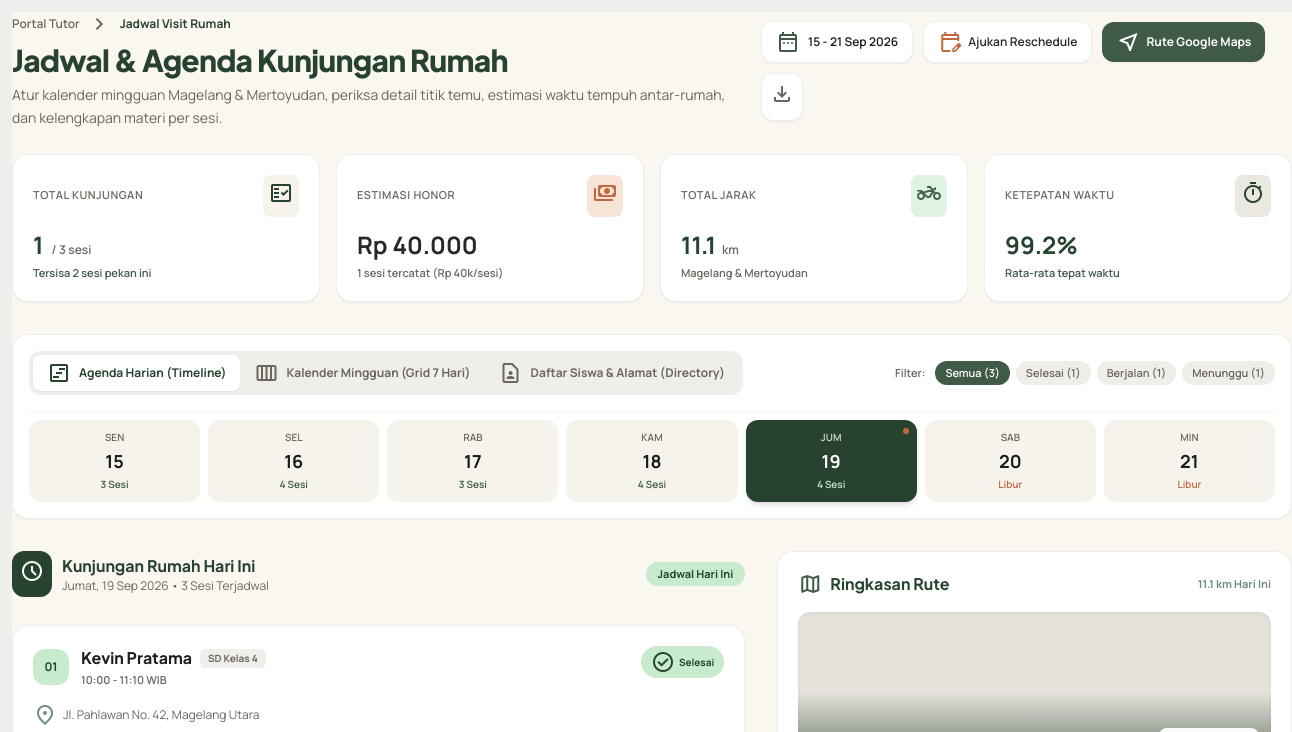
Scenario: TutorVisitSchedule Component (SQA-ISTQB & TDD) › TC-TVS-004: switches between Timeline, Weekly Calendar Grid, and Student Directory tabs
Switch to Weekly Grid
Click the button "Kalender Mingguan (Grid 7 Hari)".
click(363, 373)  # box [240,355,485,391]
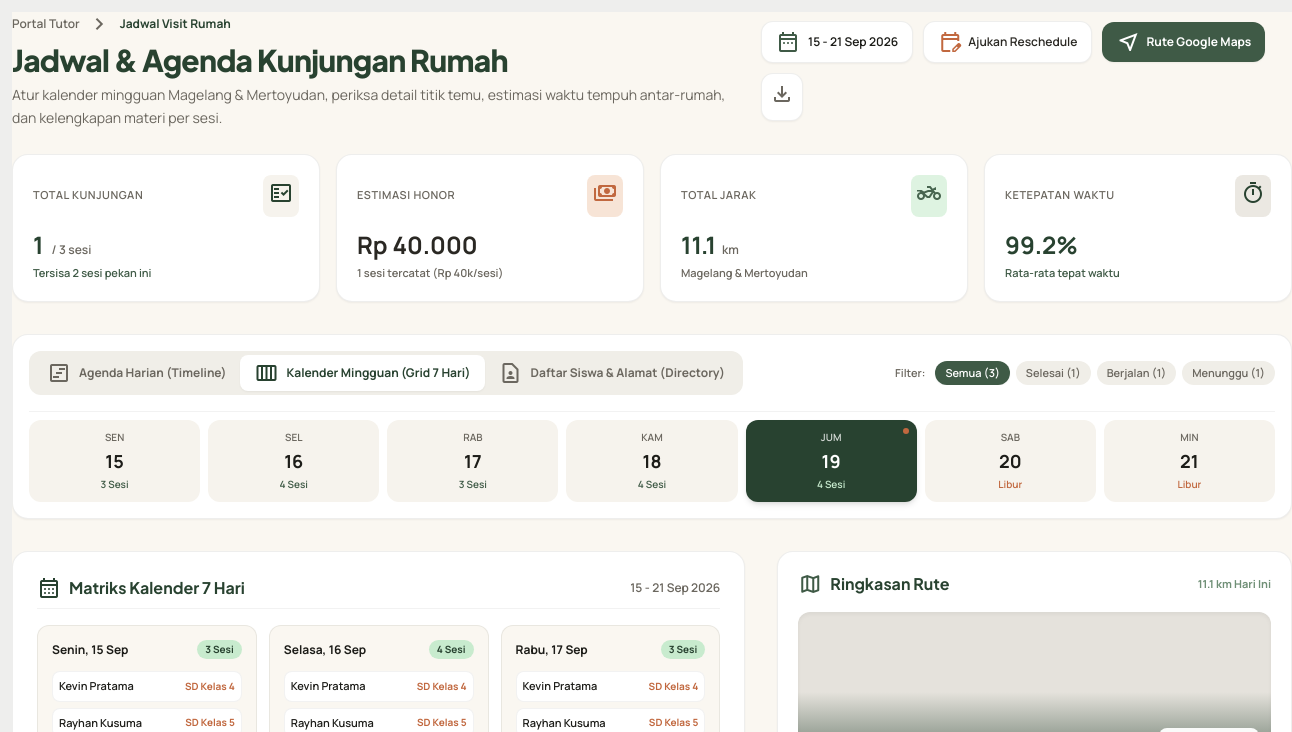
Expected: the heading "Matriks Kalender 7 Hari" is shown, [69,576,245,600]
Switch to Directory
Click the button "Daftar Siswa & Alamat (Directory)".
click(612, 373)  # box [485,355,739,391]
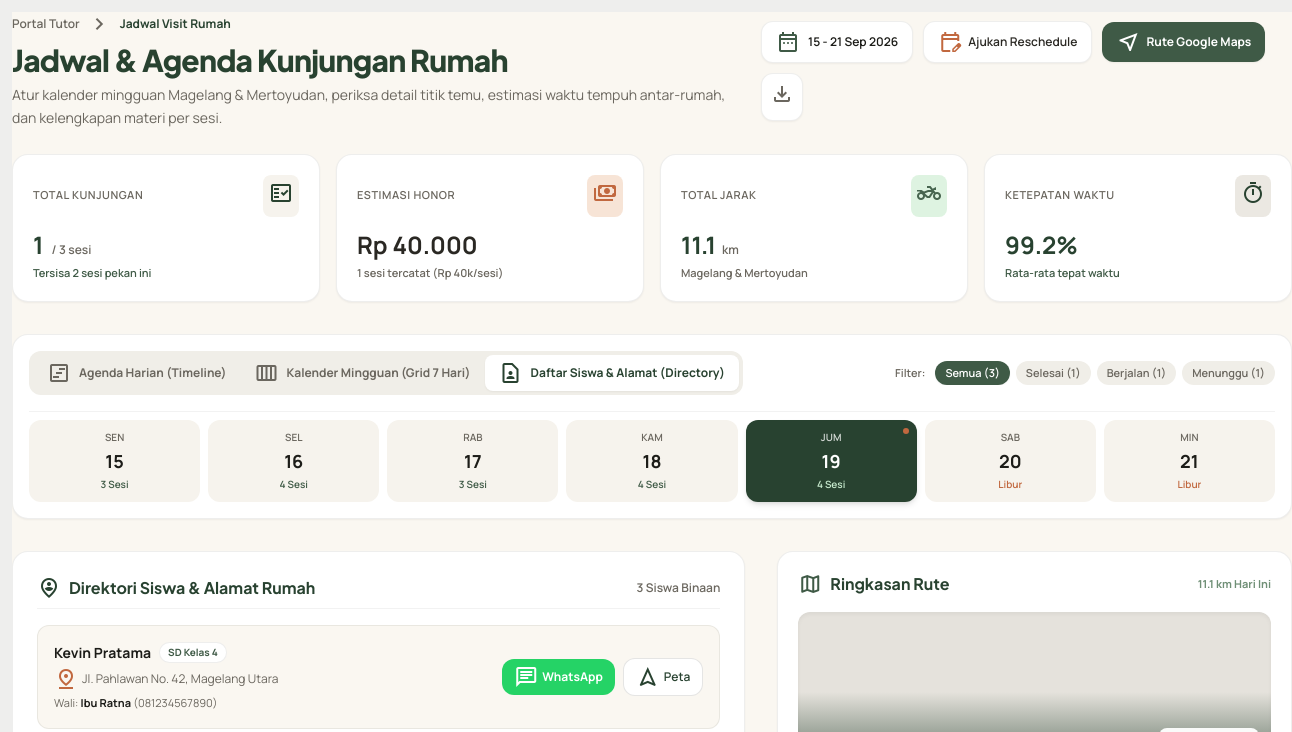
Expected: the heading "Direktori Siswa & Alamat Rumah" is shown, [69,576,315,600]
